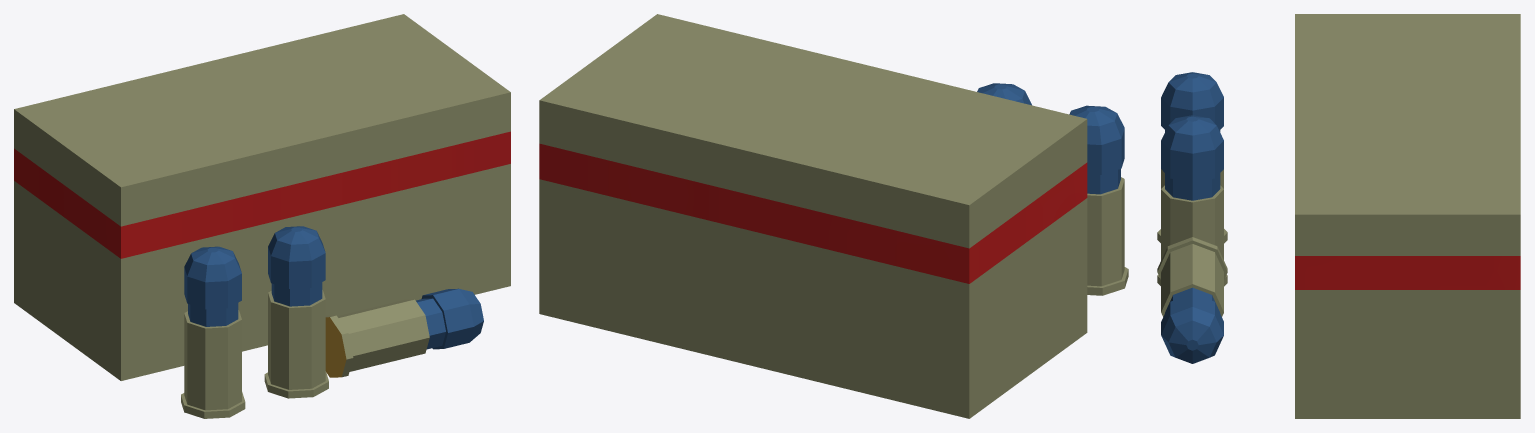
3 views of the same model, side by side, from view 1: azimuth 30°, elevation 25°; view 2: azimuth 150°, elevation 25°; view 3: azimuth 270°, elevation 25° (orthographic). The views are drawn at different scales.
Visible parts, largest first — view 1: Ammo_grenade_launcher; view 2: Ammo_grenade_launcher; view 3: Ammo_grenade_launcher.
Part boxes in pixels (left/top/right/bottom): Ammo_grenade_launcher: left=14, top=14, right=510, bottom=418; Ammo_grenade_launcher: left=539, top=14, right=1128, bottom=418; Ammo_grenade_launcher: left=1157, top=14, right=1520, bottom=418.
Size of the model in its own units: 0.3971 by 0.1886 by 0.3038.
Materials: 1 (1 with a texture image).
